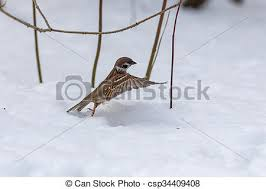hsparrow: (66, 52, 166, 139)
